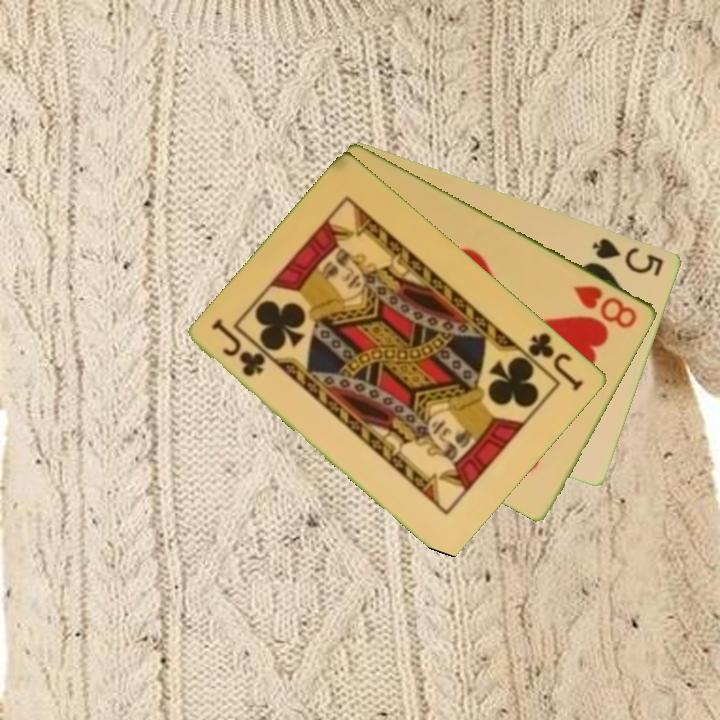5s: (589, 234, 667, 280)
8h: (570, 281, 641, 331)
Jc: (525, 328, 588, 394), (208, 315, 269, 380)
